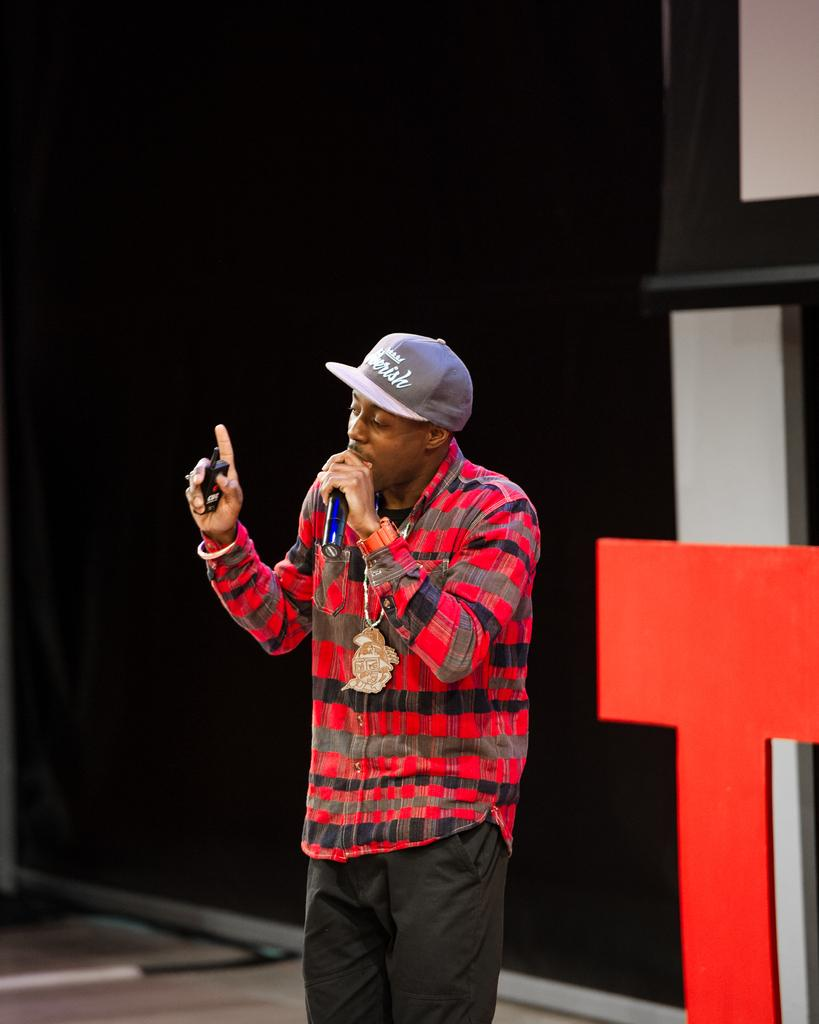Hat: (324, 328, 476, 440)
